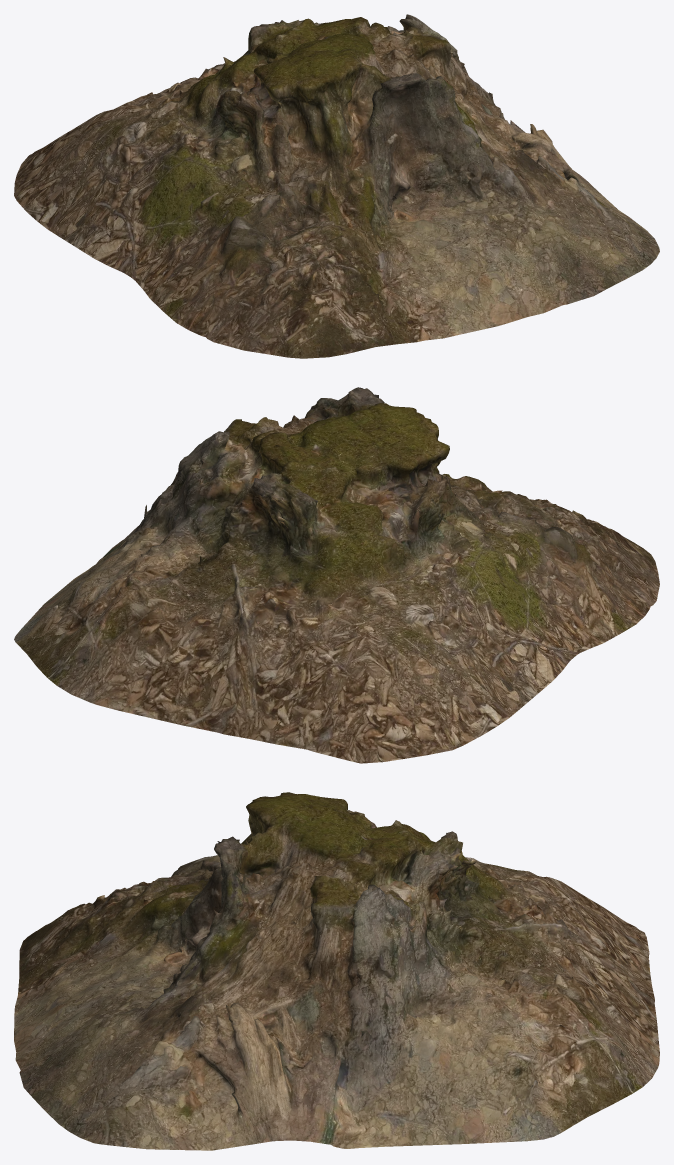
File: tree_stump_01.glb
3 renders of one model, top to bottom at view 1: azimuth 30°, elevation 25°; view 2: azimuth 150°, elevation 25°; view 3: azimuth 270°, elevation 25°, orthographic. The views are drawn at different scales.
Parts seen in each view (by area): view 1: tree_stump_01; view 2: tree_stump_01; view 3: tree_stump_01.
Part boxes in pixels (left/top/right/bottom): tree_stump_01: left=14, top=14, right=659, bottom=358; tree_stump_01: left=14, top=387, right=659, bottom=763; tree_stump_01: left=14, top=792, right=659, bottom=1150.
Size of the model in its own units: 1.43 by 0.5725 by 1.59.
1 material, 1 textured.
